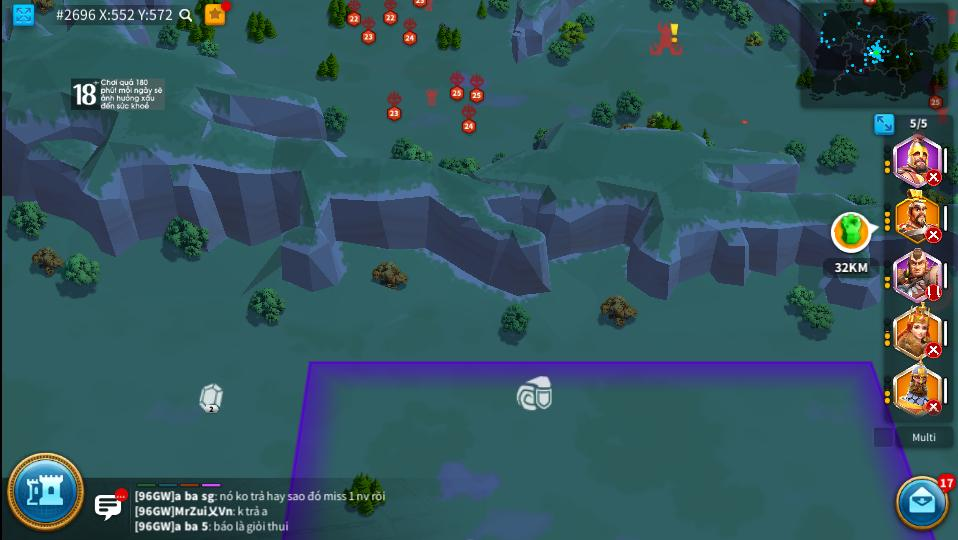gem-z-out: (199, 383, 222, 417)
march_attacking: (926, 284, 942, 301), (926, 342, 942, 358), (926, 400, 942, 416), (927, 227, 942, 243), (927, 170, 942, 185)
